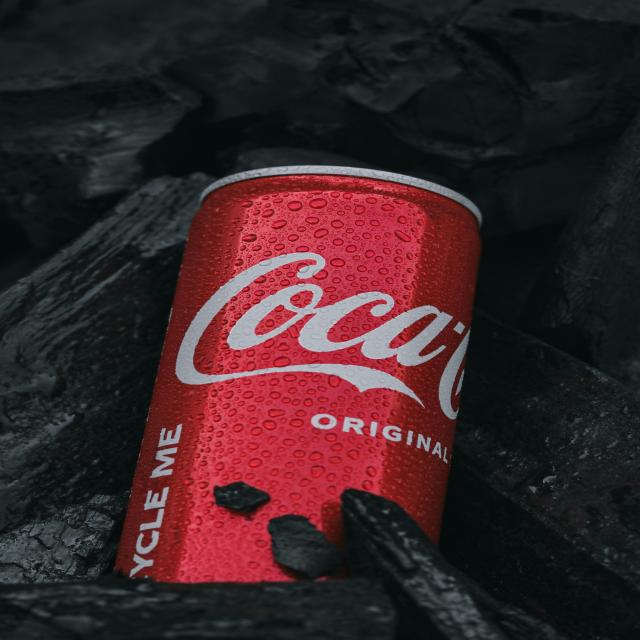cocacola: (176, 176, 509, 612)
